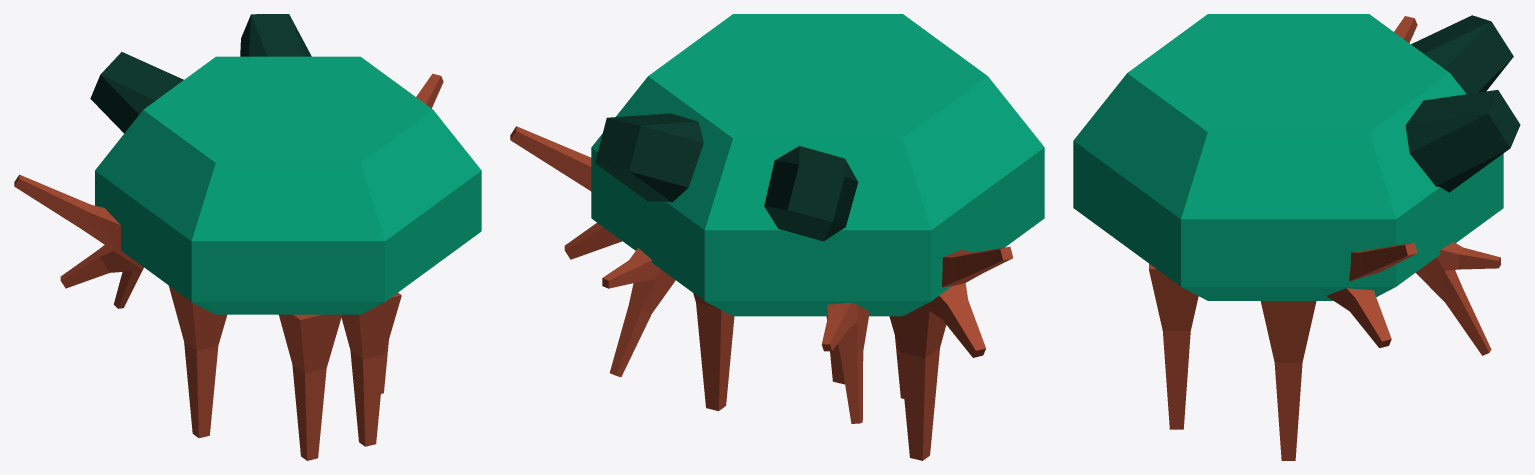
The model's file is collectible_alien.glb.
3 renders of one model, left to right at view 1: azimuth 30°, elevation 25°; view 2: azimuth 150°, elevation 25°; view 3: azimuth 270°, elevation 25°, orthographic. The views are drawn at different scales.
Visible parts, largest first — view 1: leafs_round, tree_branchLong (×3), trunk_taper (×2), tree_branchLongSplit (×3); view 2: leafs_round, tree_branchLongSplit (×4), trunk_taper (×2), tree_branchLong (×2); view 3: leafs_round, trunk_taper (×2), tree_branchLong (×2), tree_branchLongSplit (×2).
Part boxes in pixels (x1=…): leafs_round: x1=95, y1=56, x2=481, y2=314; tree_branchLong (×3): x1=168, y1=285, x2=401, y2=460; trunk_taper (×2): x1=90, y1=14, x2=311, y2=133; tree_branchLongSplit (×3): x1=14, y1=73, x2=443, y2=308; leafs_round: x1=591, y1=14, x2=1044, y2=316; tree_branchLongSplit (×4): x1=510, y1=126, x2=1013, y2=423; trunk_taper (×2): x1=595, y1=113, x2=858, y2=241; tree_branchLong (×2): x1=693, y1=293, x2=946, y2=460; leafs_round: x1=1073, y1=14, x2=1503, y2=300; trunk_taper (×2): x1=1405, y1=15, x2=1520, y2=192; tree_branchLong (×2): x1=1149, y1=263, x2=1316, y2=460; tree_branchLongSplit (×2): x1=1326, y1=242, x2=1500, y2=355.
Size of the model in its own units: 1.48 by 1.04 by 1.2.
